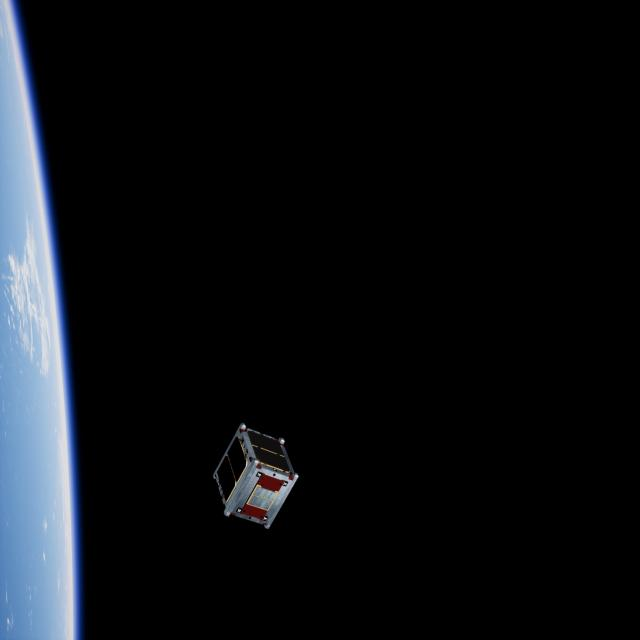satellite: (210, 421, 298, 532)
